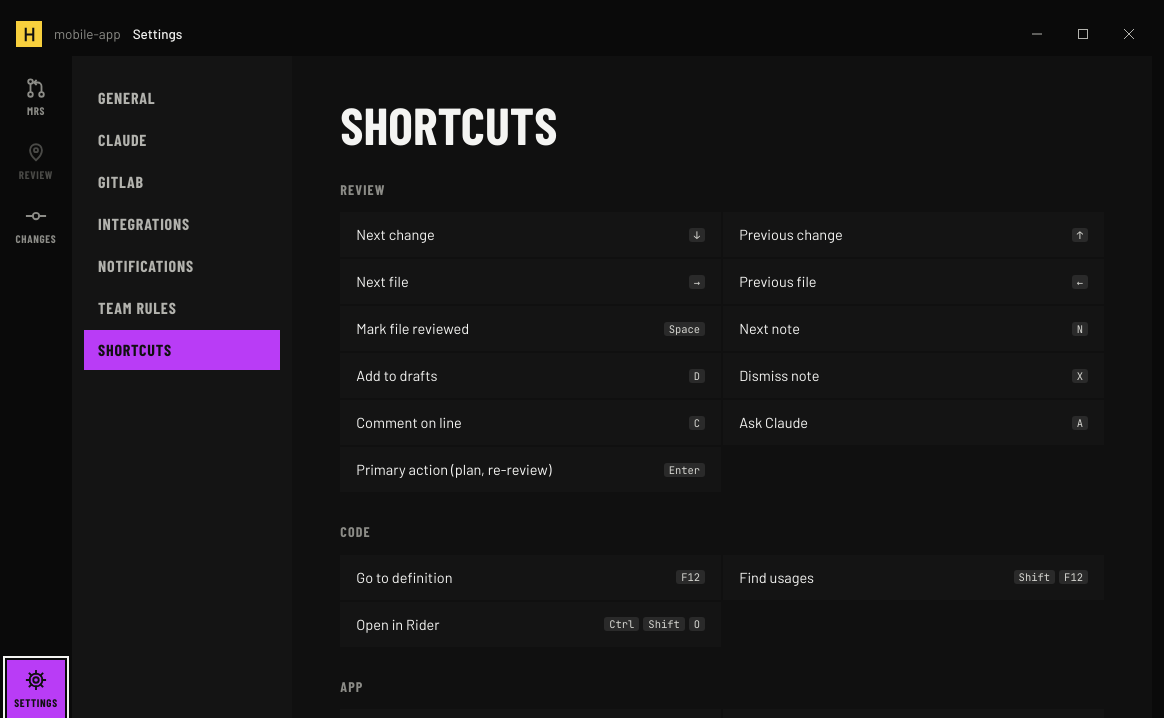
Test case: Settings › Shortcuts › ending a capture (F-19.7) › F-19.7 Tab moves focus to the next keys and ends the capture; Tab is not taken as a shortcut
The image size is (1164, 718).
Click the button named "Change shortcut for Next note": point(1080, 329) left=1068, top=315, right=1092, bottom=343
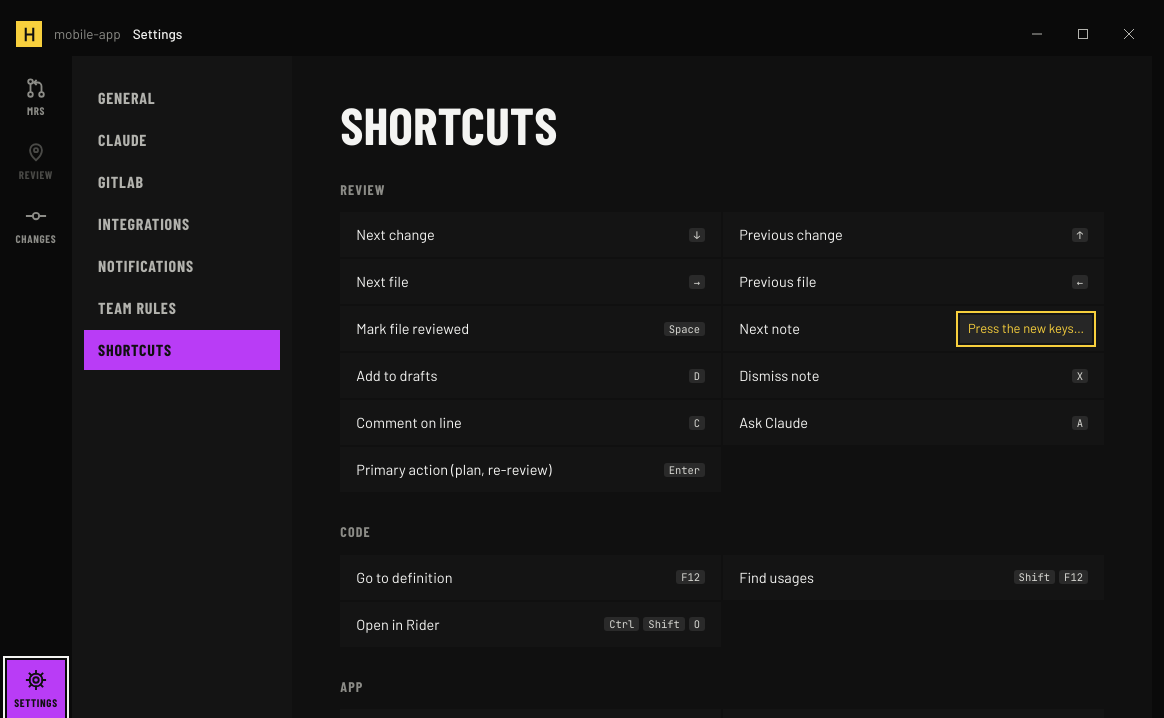
Press Tab
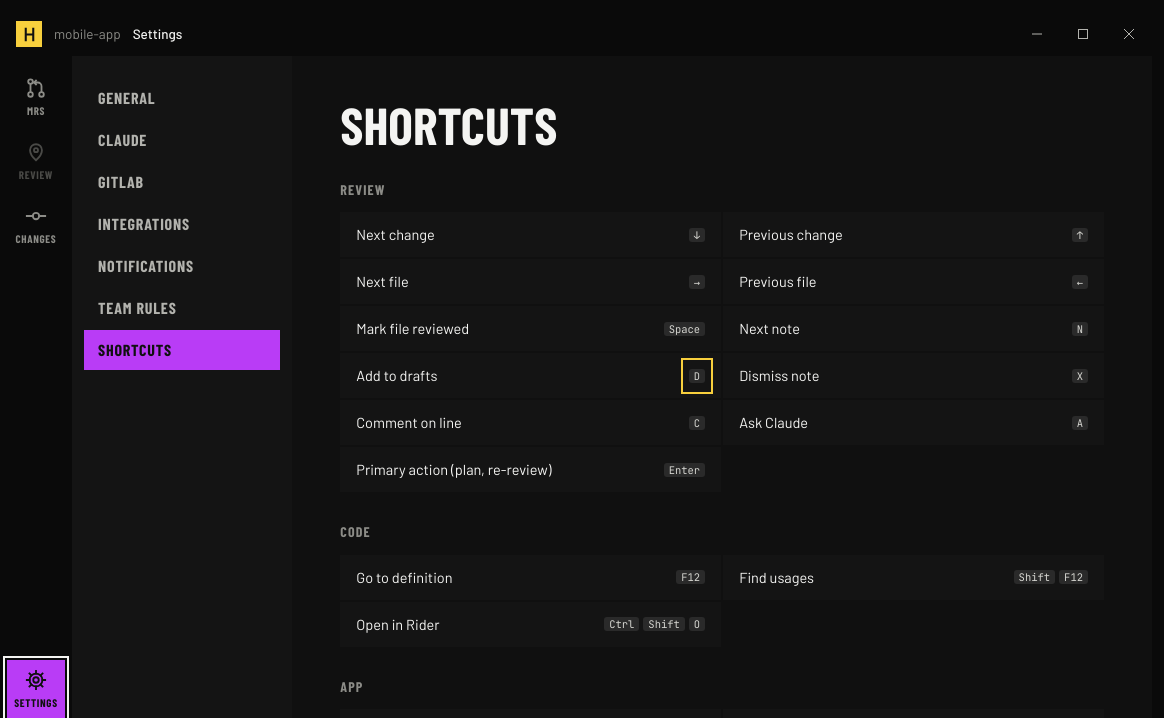
Expected: the text "Press the new keys…" is gone
